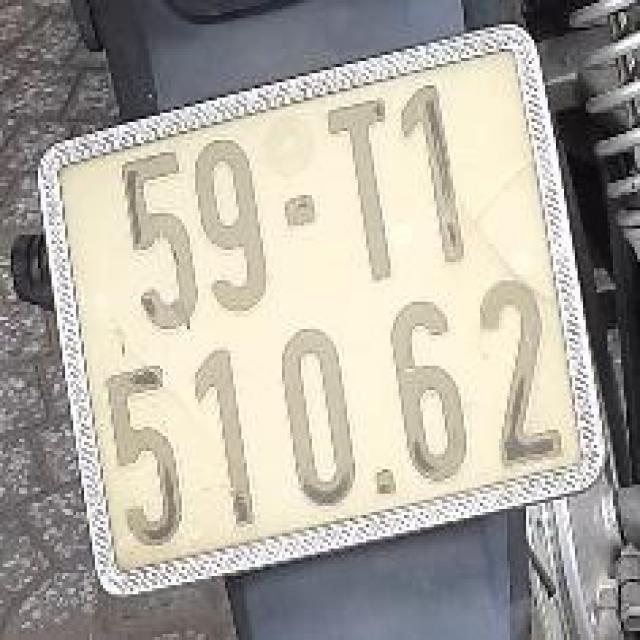0: (260, 315, 374, 519)
1: (175, 331, 284, 543), (391, 68, 494, 280)
2: (458, 262, 583, 482)
5: (90, 352, 210, 563), (105, 142, 210, 350)
6: (376, 282, 486, 493)
9: (178, 124, 282, 329)
T: (314, 86, 429, 301)
